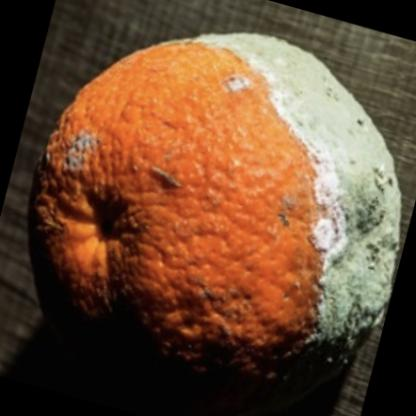rotten: (29, 32, 403, 397)
